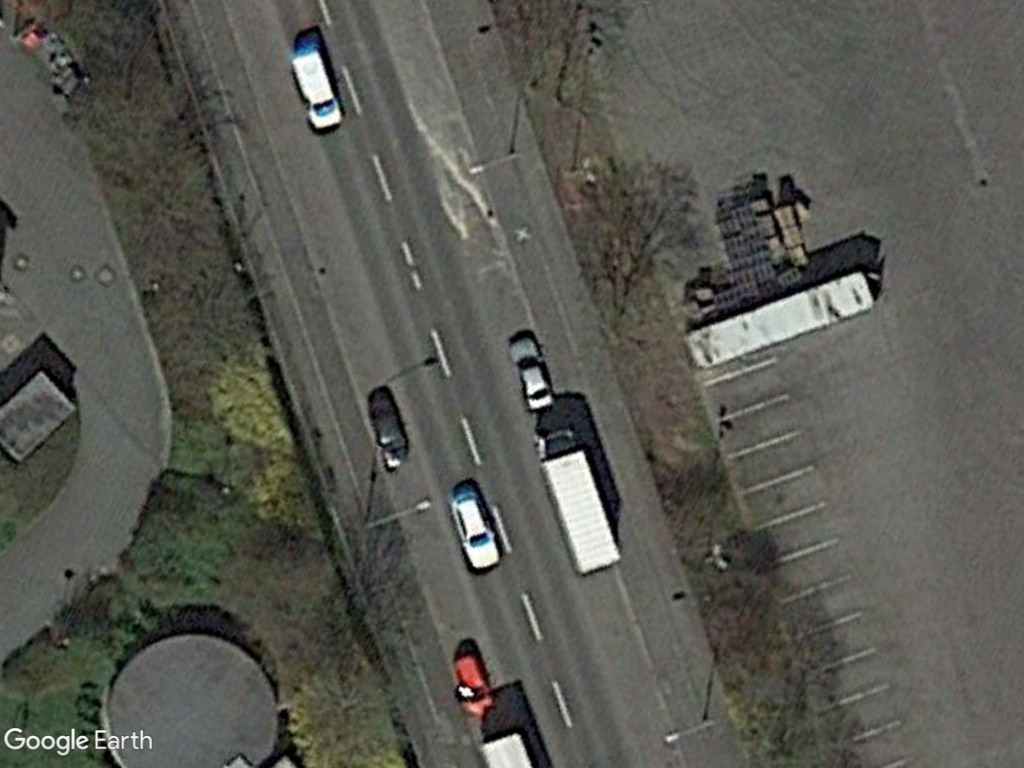car: (448, 488, 503, 574), (505, 331, 557, 415)
truck: (533, 428, 623, 576)
van: (285, 46, 346, 136)
